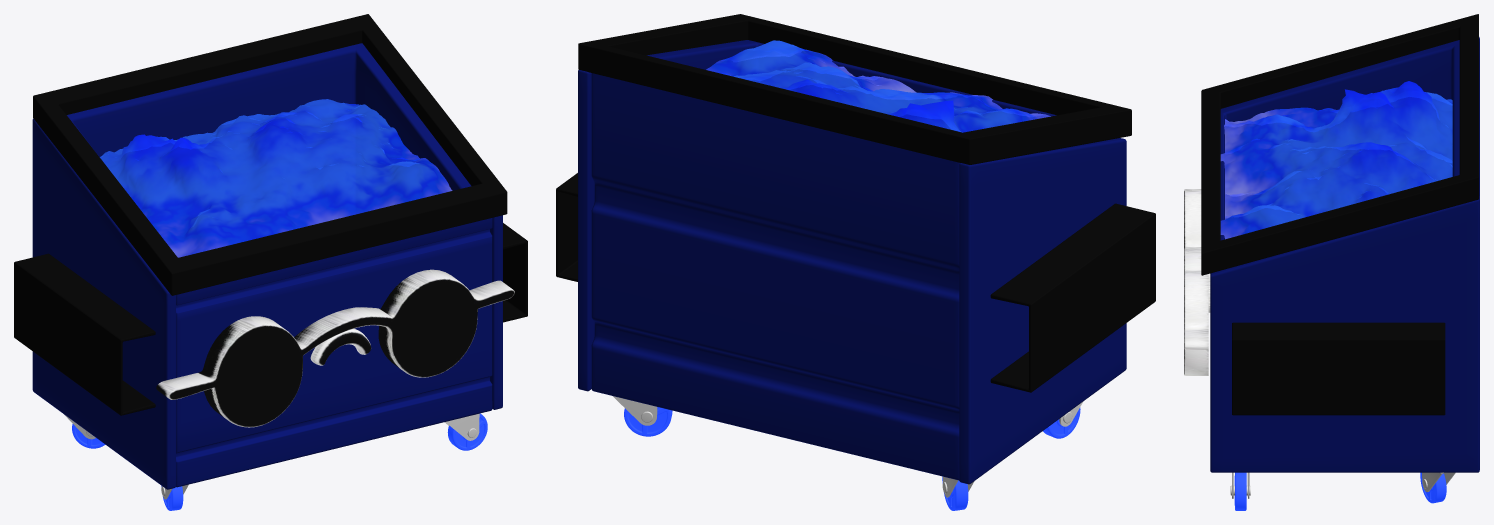
3 renders of one model, left to right at view 1: azimuth 30°, elevation 25°; view 2: azimuth 150°, elevation 25°; view 3: azimuth 270°, elevation 25°, orthographic. The views are drawn at different scales.
Visible parts, largest first — view 1: Dumpster Geometry, Explosion Fire Base.002, Wheel Holder; view 2: Dumpster Geometry, Explosion Fire Base.002, Wheel Holder; view 3: Dumpster Geometry, Explosion Fire Base.002, Wheel Holder.
Part boxes in pixels (<box>): Dumpster Geometry: <box>14,14,527,510</box>; Explosion Fire Base.002: <box>100,99,452,257</box>; Wheel Holder: <box>64,413,479,499</box>; Dumpster Geometry: <box>556,14,1155,510</box>; Explosion Fire Base.002: <box>706,40,1050,132</box>; Wheel Holder: <box>613,396,1082,497</box>; Dumpster Geometry: <box>1184,14,1479,510</box>; Explosion Fire Base.002: <box>1220,81,1452,239</box>; Wheel Holder: <box>1230,472,1455,498</box>.
Size of what is drawn, in the model's own units: 2.3 by 1.85 by 1.45.
Materials: 7 (3 with a texture image).
